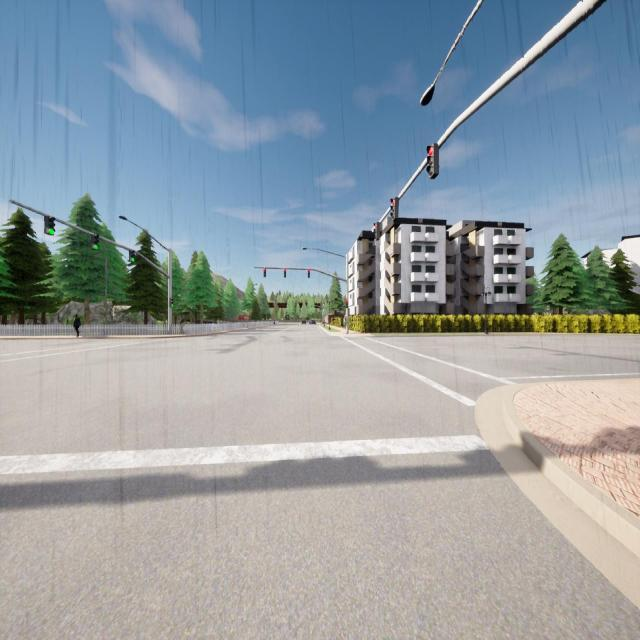Pedestrian: (73, 313, 81, 337), (180, 314, 184, 334)
Vehicle: (309, 319, 316, 325), (302, 320, 306, 325)
traffic_light: (427, 142, 439, 178), (44, 216, 55, 236), (391, 197, 398, 221), (91, 235, 99, 250), (374, 222, 379, 241), (129, 250, 135, 262), (263, 267, 266, 277), (170, 298, 173, 307), (284, 268, 286, 278), (308, 268, 310, 278), (346, 299, 348, 308)
